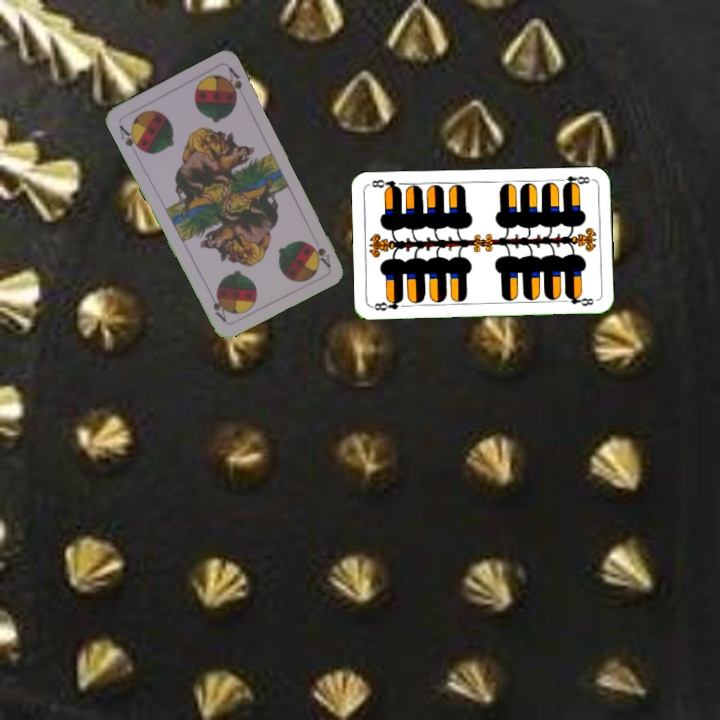E8: (554, 172, 595, 189), (369, 295, 405, 313)
SA: (115, 121, 145, 154), (308, 241, 333, 270)
